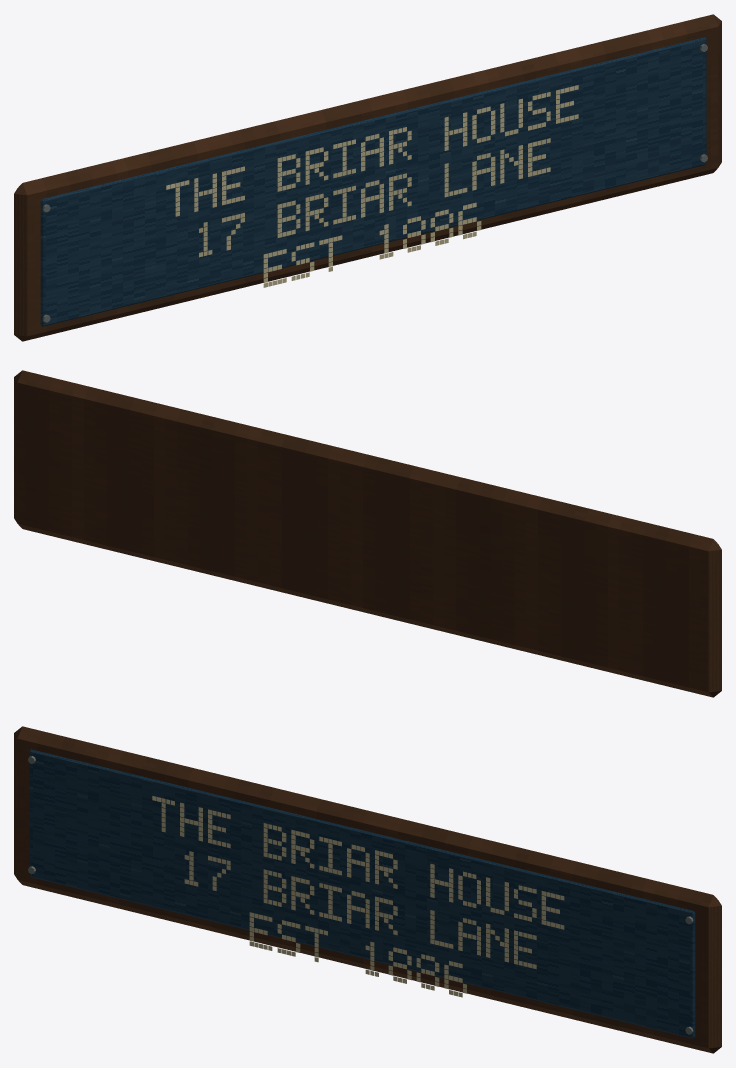
The model's file is level_sign_house.glb.
3 renders of one model, top to bottom at view 1: azimuth 30°, elevation 25°; view 2: azimuth 150°, elevation 25°; view 3: azimuth 330°, elevation 25°, orthographic.
Parts seen in each view (by area): view 1: level_sign_house; view 2: level_sign_house; view 3: level_sign_house.
Part boxes in pixels (x1,y1,x2,y2): level_sign_house: (14, 14, 721, 341); level_sign_house: (14, 370, 721, 697); level_sign_house: (14, 726, 721, 1053).
Size of the model in its own units: 1.68 by 0.36 by 0.053.
Materials: 4 (4 with a texture image).
